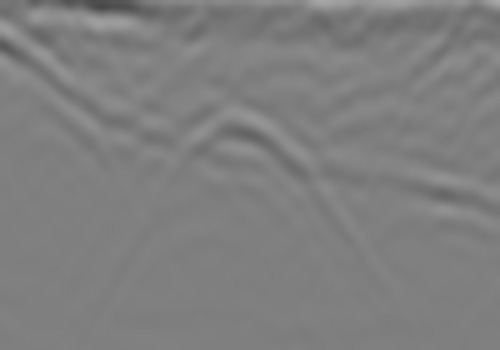hyperbola: (112, 105, 374, 299)
